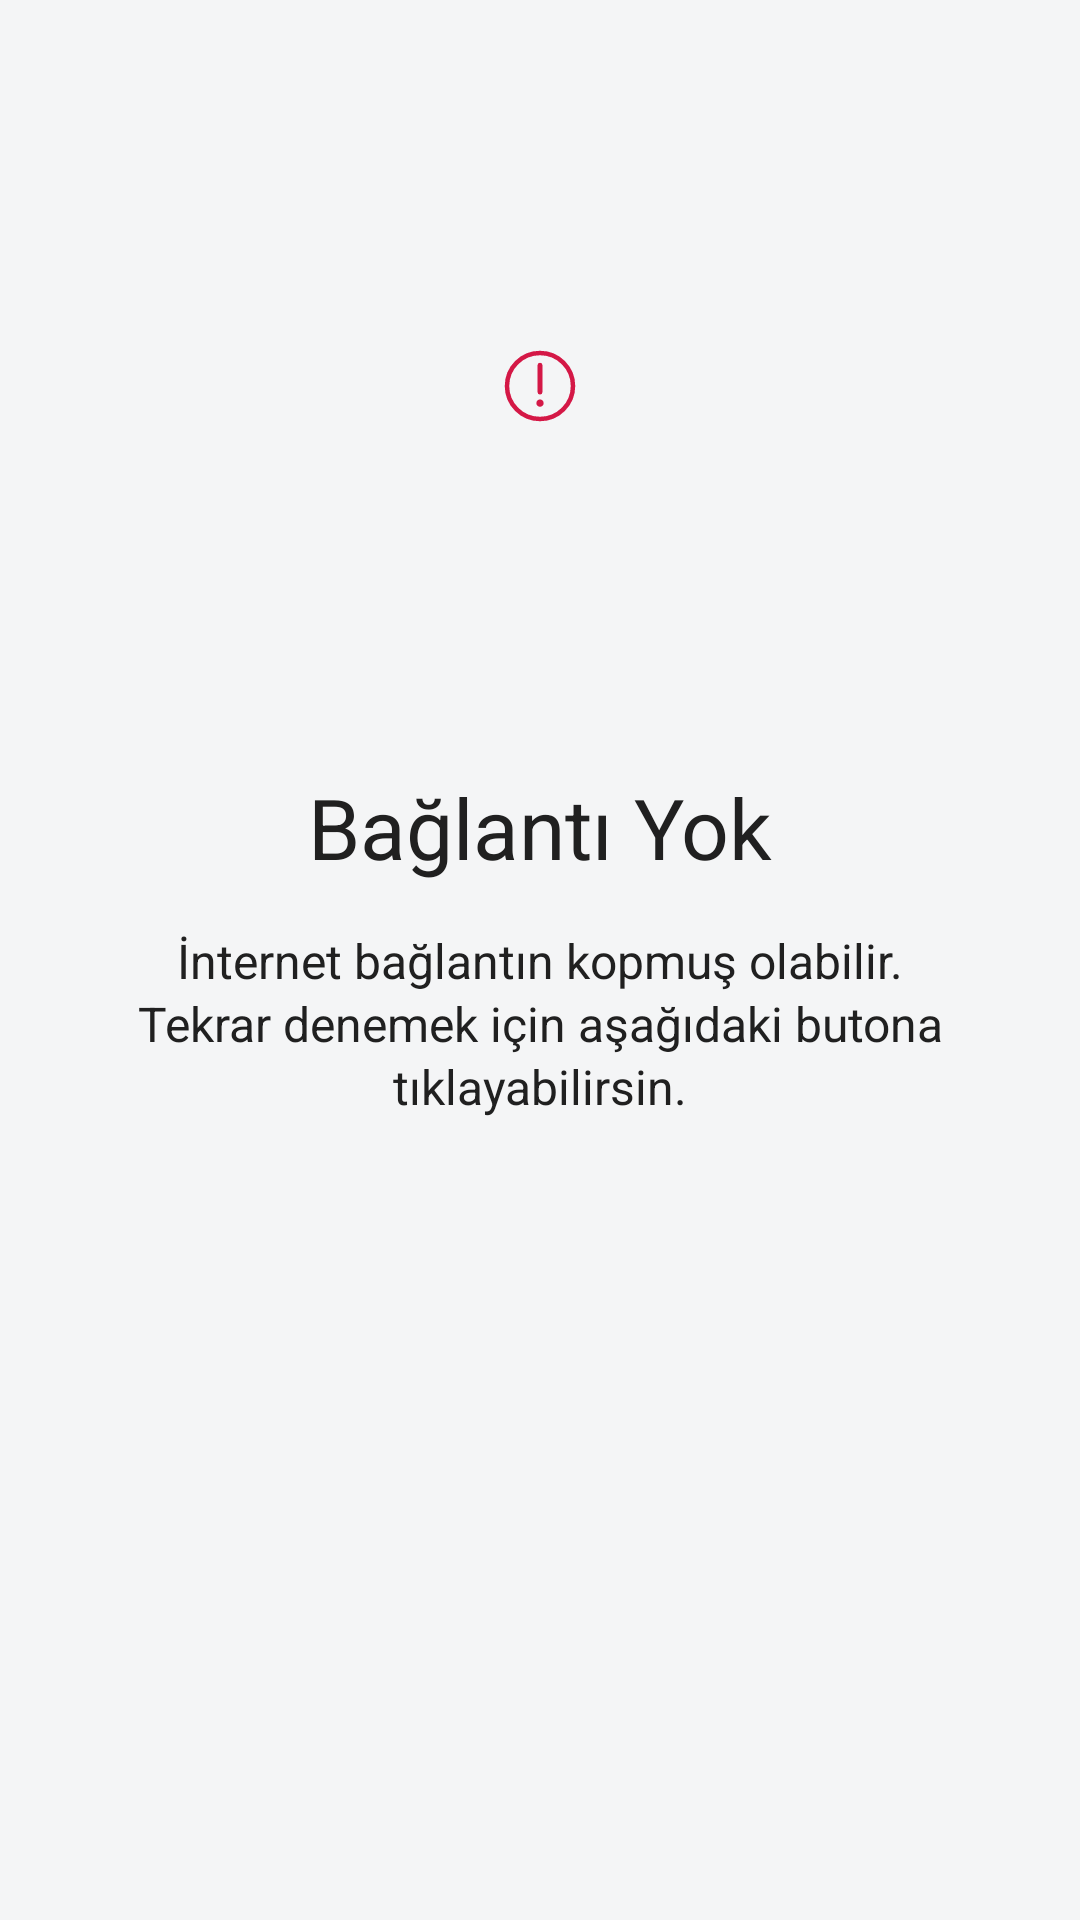

Screen size 1080*1920. Icon name, then its center in pixels as (x=x, y=y):
error: (x=540, y=386)
